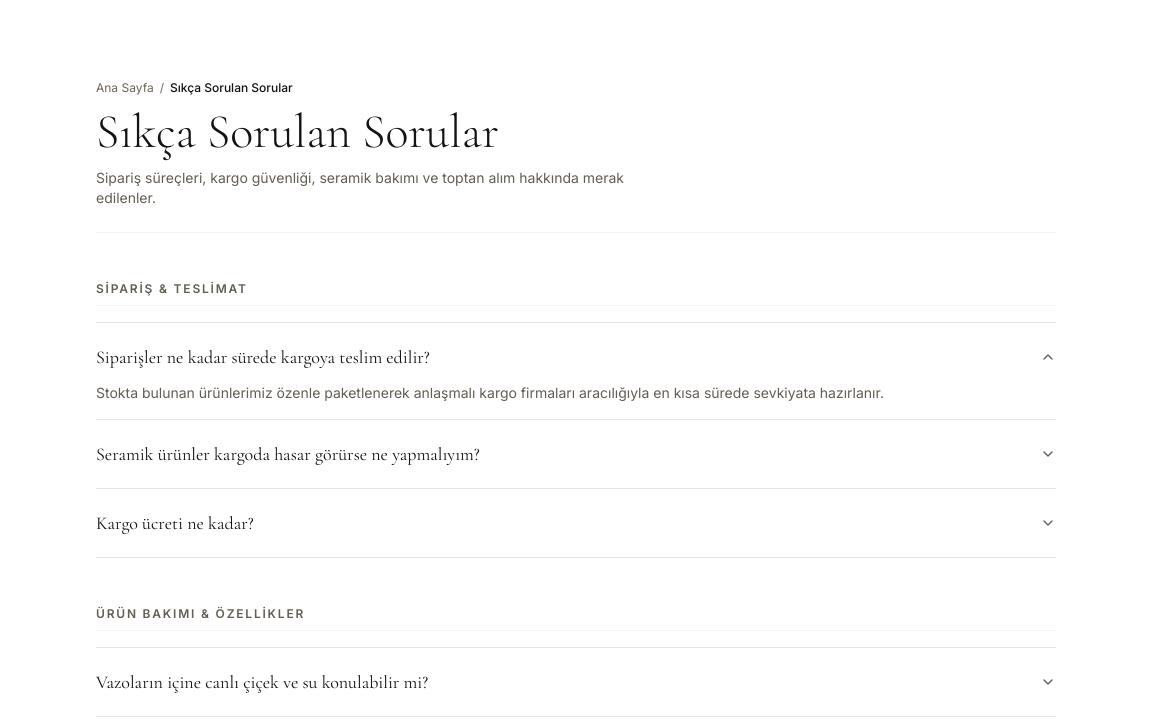
Scenario: FaqPage Component › renders FAQ questions and toggles answers on click
expect the text "Sıkça Sorulan Sorular" is shown: met, box [170,80,293,96]
expect the heading "Sipariş & Teslimat" is shown: met, box [96,281,1056,306]
Click the button "Seramik ürünler kargoda hasar görürse ne yapmalıyım?" at (288, 454), box [96,436,1056,472]
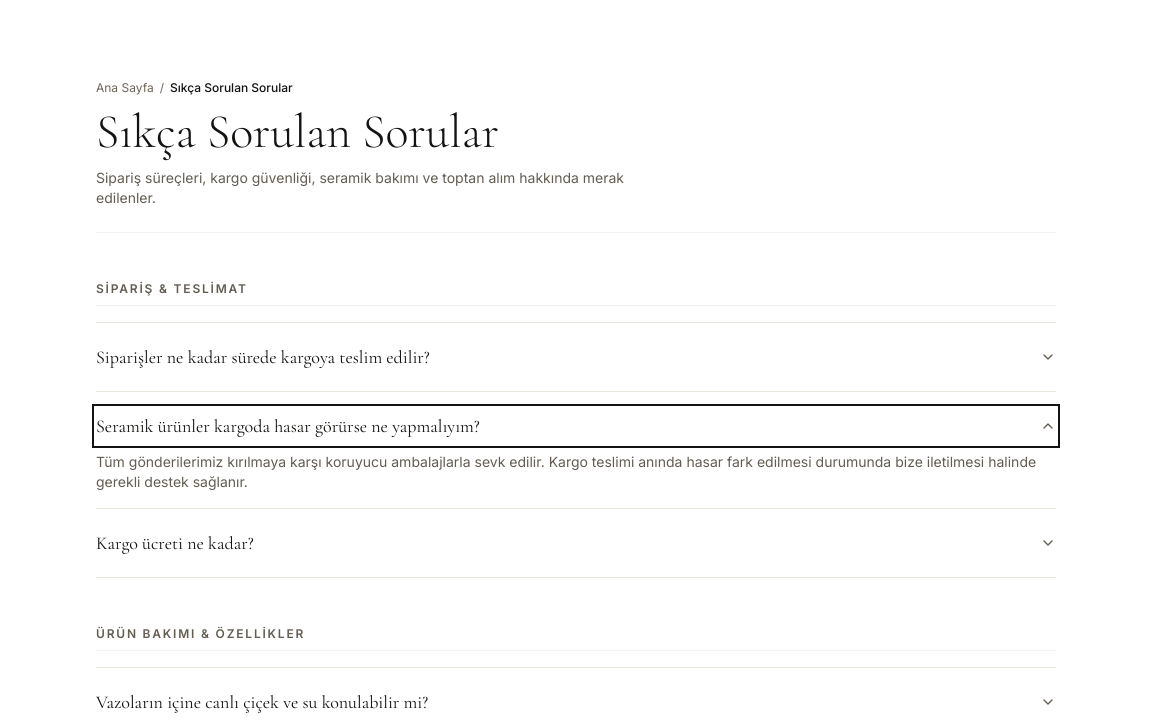
expect the text "Tüm gönderilerimiz kırılmaya karşı" is shown: met, box [96,453,1036,490]
